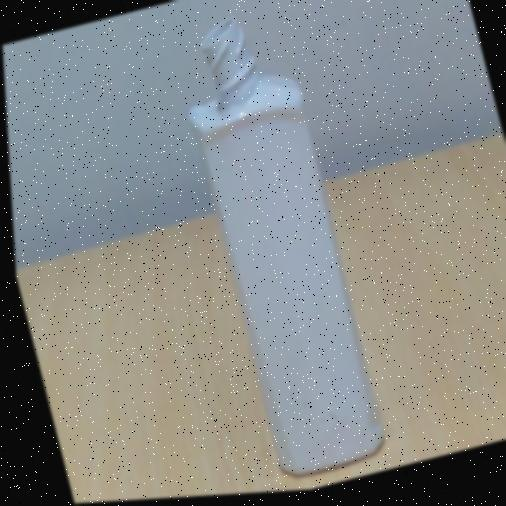bottle: (188, 18, 381, 474)
